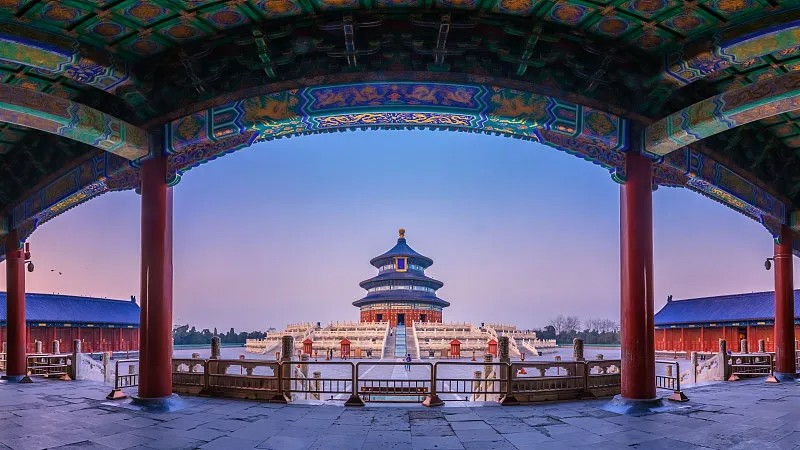Heaven: (352, 228, 450, 326)
